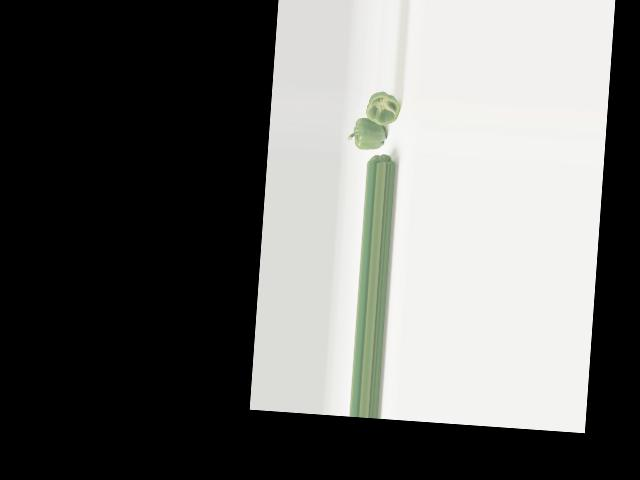bell_pepper: (361, 88, 403, 128)
